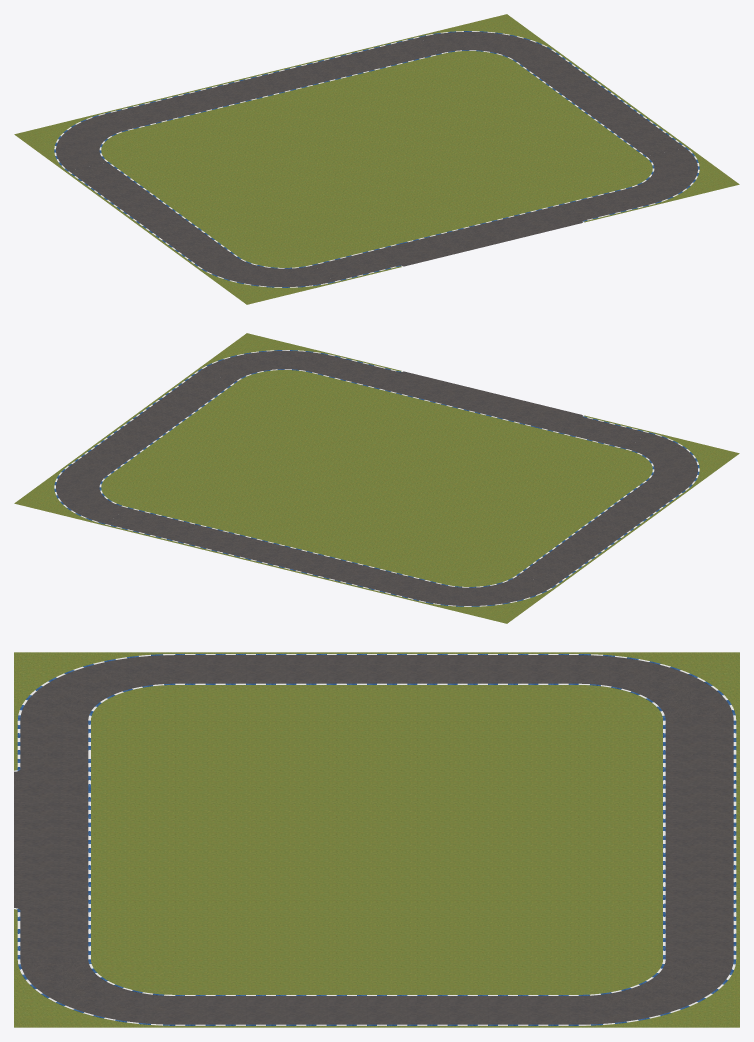
File: Track_01.glb
The picture shows the model from 3 angles, top to bottom: view 1: azimuth 30°, elevation 25°; view 2: azimuth 150°, elevation 25°; view 3: azimuth 270°, elevation 25°; orthographic projection. The views are drawn at different scales.
Visible parts, largest first — view 1: Forest_mod03_turn90_big.014, Forest_mod03_turn90_big.015, Forest_mod03_turn90_big.016, Forest_mod03_turn90_big.017, Forest_mod00_empty.116, Forest_mod00_empty.130, Forest_mod01_straight.069, Forest_mod00_empty.093, Forest_mod00_empty.094, Forest_mod00_empty.101, Forest_mod00_empty.102, Forest_mod00_empty.110 (+75 smaller); view 2: Forest_mod03_turn90_big.016, Forest_mod03_turn90_big.017, Forest_mod03_turn90_big.014, Forest_mod03_turn90_big.015, Forest_mod00_empty.122, Forest_mod00_empty.106, Seaside_mod01_straight.003, Forest_mod00_empty.098, Forest_mod00_empty.099, Forest_mod00_empty.104, Forest_mod00_empty.105, Forest_mod00_empty.108 (+75 smaller); view 3: Forest_mod03_turn90_big.014, Forest_mod03_turn90_big.015, Forest_mod03_turn90_big.016, Forest_mod03_turn90_big.017, Forest_mod01_straight.075, Forest_mod01_straight.079, Forest_mod00_empty.085, Forest_mod00_empty.087, Forest_mod00_empty.095, Forest_mod00_empty.098, Forest_mod00_empty.102, Forest_mod00_empty.103 (+75 smaller).
Part boxes in pixels (<box>): Forest_mod03_turn90_big.014: <box>418,14,558,73</box>; Forest_mod03_turn90_big.015: <box>195,245,335,304</box>; Forest_mod03_turn90_big.016: <box>599,147,739,206</box>; Forest_mod03_turn90_big.017: <box>14,112,154,171</box>; Forest_mod00_empty.116: <box>181,158,251,188</box>; Forest_mod00_empty.130: <box>502,130,572,160</box>; Forest_mod01_straight.069: <box>238,69,308,98</box>; Forest_mod00_empty.093: <box>424,74,494,103</box>; Forest_mod00_empty.094: <box>469,63,539,92</box>; Forest_mod00_empty.101: <box>464,190,534,220</box>; Forest_mod00_empty.102: <box>509,179,579,209</box>; Forest_mod00_empty.110: <box>174,109,244,139</box>; Forest_mod03_turn90_big.016: <box>195,333,335,392</box>; Forest_mod03_turn90_big.017: <box>418,564,558,623</box>; Forest_mod03_turn90_big.014: <box>14,466,154,525</box>; Forest_mod03_turn90_big.015: <box>599,431,739,490</box>; Forest_mod00_empty.122: <box>502,477,572,507</box>; Forest_mod00_empty.106: <box>181,449,251,479</box>; Seaside_mod01_straight.003: <box>445,388,515,417</box>; Forest_mod00_empty.098: <box>509,428,579,458</box>; Forest_mod00_empty.099: <box>464,417,534,447</box>; Forest_mod00_empty.104: <box>259,393,329,422</box>; Forest_mod00_empty.105: <box>214,382,284,411</box>; Forest_mod00_empty.108: <box>219,509,289,539</box>; Forest_mod03_turn90_big.014: <box>578,959,739,1027</box>; Forest_mod03_turn90_big.015: <box>14,652,175,720</box>; Forest_mod03_turn90_big.016: <box>14,959,175,1027</box>; Forest_mod03_turn90_big.017: <box>578,652,739,720</box>; Forest_mod01_straight.075: <box>336,652,417,686</box>; Forest_mod01_straight.079: <box>336,993,417,1027</box>; Forest_mod00_empty.085: <box>578,720,659,754</box>; Forest_mod00_empty.087: <box>578,925,659,959</box>; Forest_mod00_empty.095: <box>94,720,175,754</box>; Forest_mod00_empty.098: <box>94,754,175,788</box>; Forest_mod00_empty.102: <box>94,891,175,925</box>; Forest_mod00_empty.103: <box>94,925,175,959</box>.
Bounding box in the file's own units: 176 × 0.03 × 144.
Materials: 6 (6 with a texture image).
